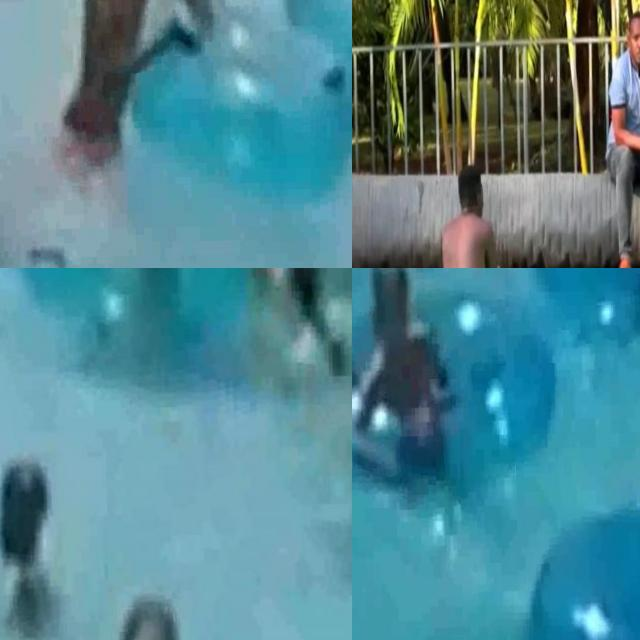drowning: (0, 450, 105, 640), (0, 77, 64, 268)
out of water: (418, 135, 516, 268), (602, 0, 640, 268)
swimming: (352, 268, 500, 468), (114, 268, 261, 301)
